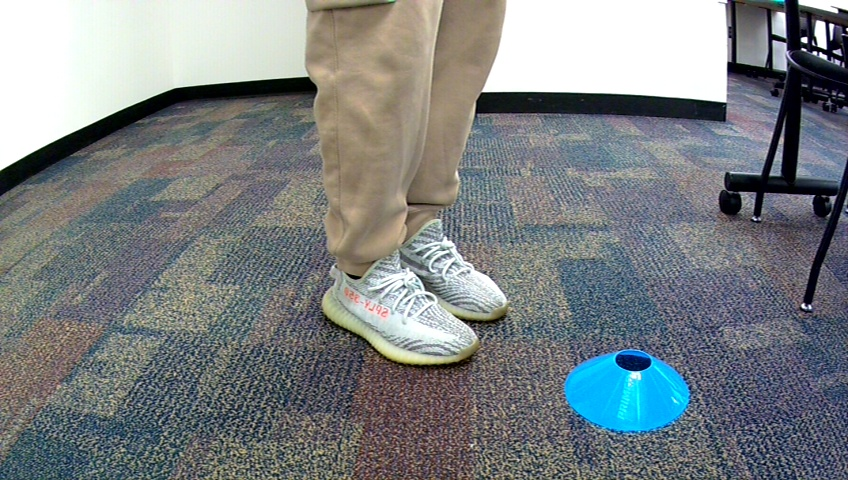cone: (563, 347, 691, 433)
